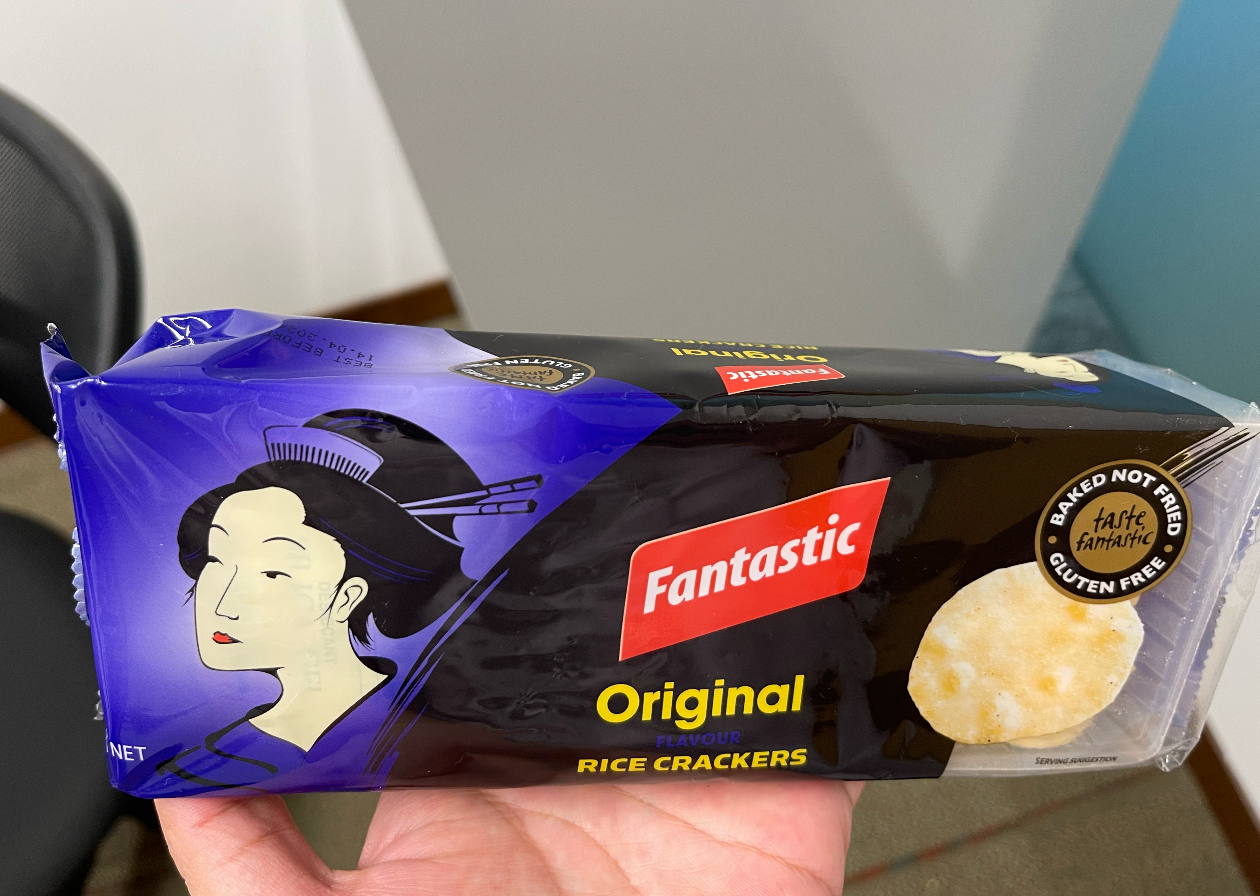crackers_100g-199g: (135, 349, 1185, 765)
